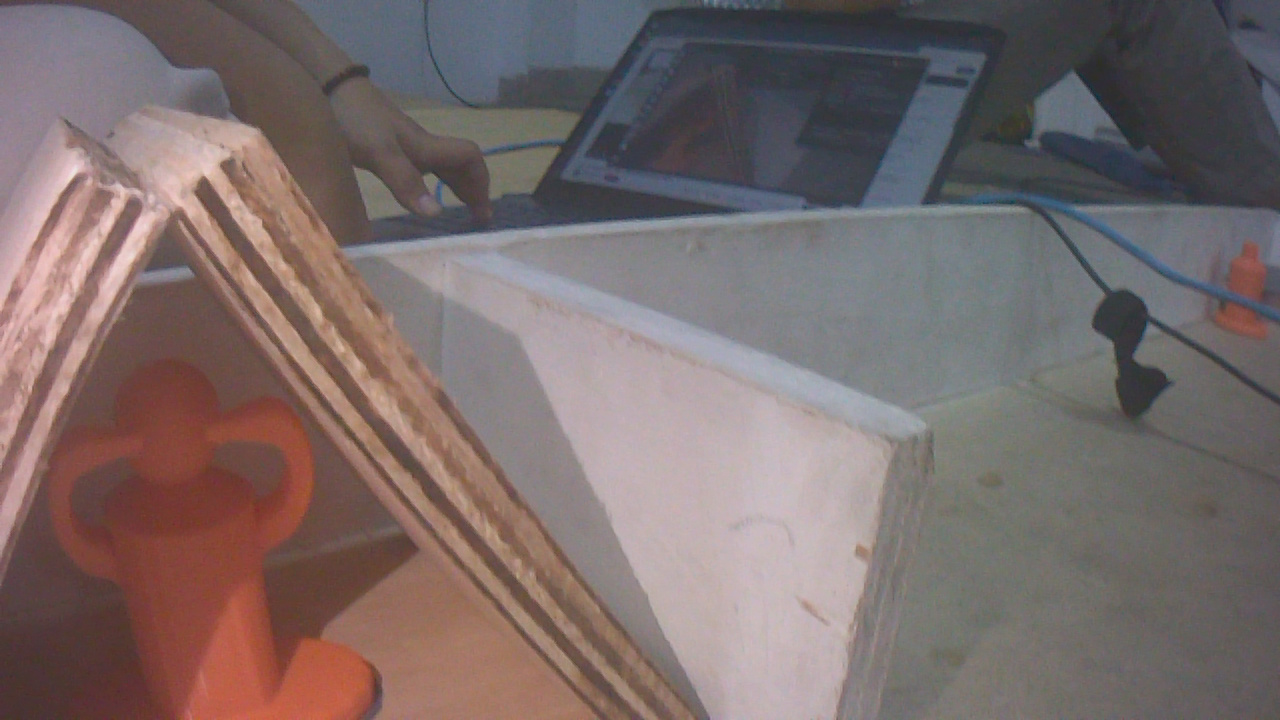real: (49, 371, 387, 720)
